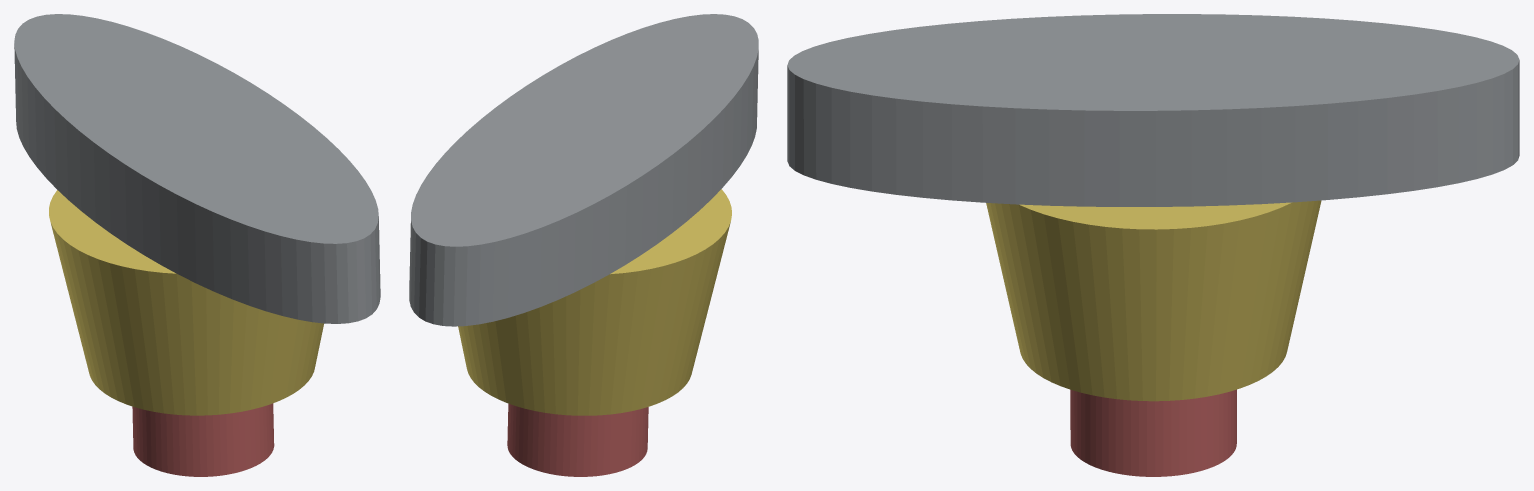
File: reference-candidate.glb
3 renders of one model, left to right at view 1: azimuth 30°, elevation 25°; view 2: azimuth 150°, elevation 25°; view 3: azimuth 270°, elevation 25°, orthographic. The views are drawn at different scales.
Visible parts, largest first — view 1: gray-housing, yellow-body, red-actuator; view 2: gray-housing, yellow-body, red-actuator; view 3: gray-housing, yellow-body, red-actuator.
Boxes of the visible parts, box(x1,y1,x2,y2) form: gray-housing: box(14, 14, 380, 323); yellow-body: box(49, 190, 323, 415); red-actuator: box(132, 403, 274, 476); gray-housing: box(409, 14, 758, 326); yellow-body: box(458, 189, 731, 415); red-actuator: box(507, 403, 648, 476); gray-housing: box(787, 14, 1519, 206); yellow-body: box(986, 200, 1321, 401); red-actuator: box(1070, 389, 1236, 476).
Bounding box in the file's own units: 0.1304 × 0.1553 × 0.2701.
